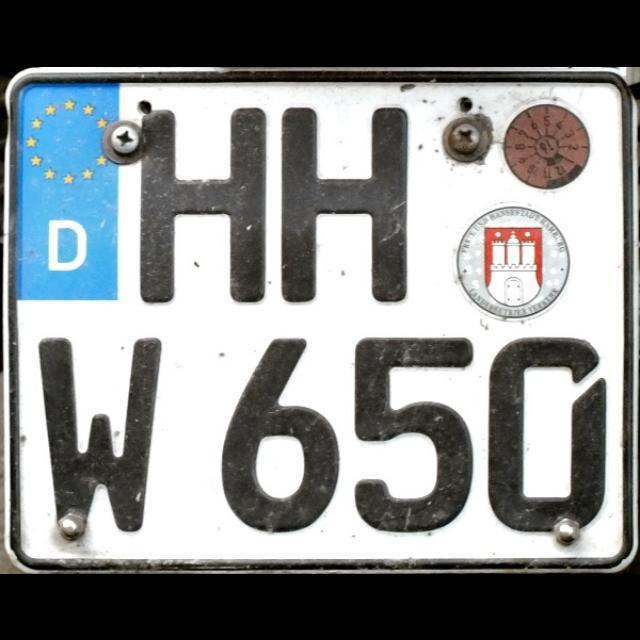license-plates: (5, 68, 639, 572)
